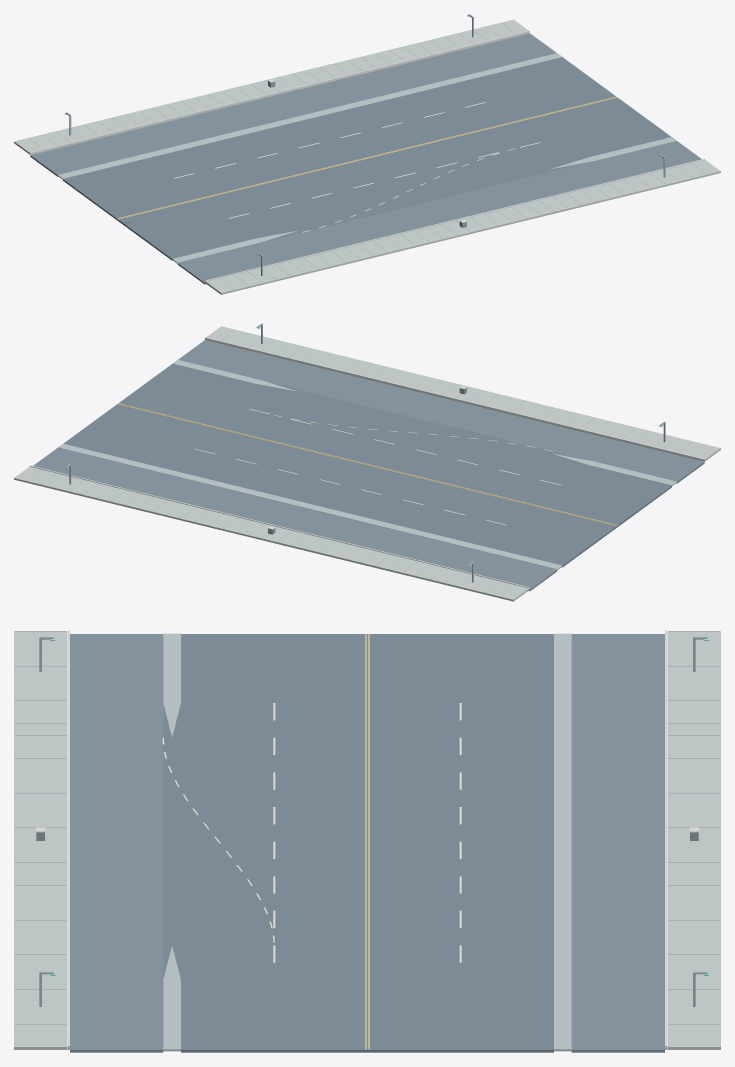
The model's file is city-w68-s39.glb.
The picture shows the model from 3 angles, top to bottom: view 1: azimuth 30°, elevation 25°; view 2: azimuth 150°, elevation 25°; view 3: azimuth 270°, elevation 25°; orthographic projection. The views are drawn at different scales.
Visible parts, largest first — view 1: Main_road, Frontage_roads, Sidewalk, Medians, Curbs, Merge_surface, Paving_joints, Center_lines, Lane_markings; view 2: Main_road, Frontage_roads, Sidewalk, Medians, Curbs, Merge_surface, Paving_joints, Center_lines, Lane_markings; view 3: Main_road, Frontage_roads, Sidewalk, Medians, Merge_surface, Paving_joints, Curbs, Center_lines, Lane_markings.
Boxes of the visible parts, x1,y1,x2,y2 form: Main_road: (63,57,670,260); Frontage_roads: (30,33,701,284); Sidewalk: (14,19,720,294); Medians: (57,53,676,263); Curbs: (29,30,705,282); Merge_surface: (262,159,591,241); Paving_joints: (14,23,706,292); Center_lines: (117,96,617,219); Lane_markings: (173,102,540,218); Main_road: (63,364,671,567); Frontage_roads: (33,340,704,591); Sidewalk: (14,326,720,601); Medians: (58,359,677,569); Curbs: (29,337,705,589); Merge_surface: (257,382,586,464); Paving_joints: (28,329,720,599); Center_lines: (117,403,617,525); Lane_markings: (194,409,561,525); Main_road: (181,634,553,1052); Frontage_roads: (70,634,664,1052); Sidewalk: (14,631,720,1049); Medians: (163,633,571,1051); Merge_surface: (163,703,180,979); Paving_joints: (14,631,720,1035); Curbs: (67,630,667,1049); Center_lines: (365,633,369,1049); Lane_markings: (273,703,461,963).
Bounding box in the file's own units: 72 × 3.26 × 51.75.
